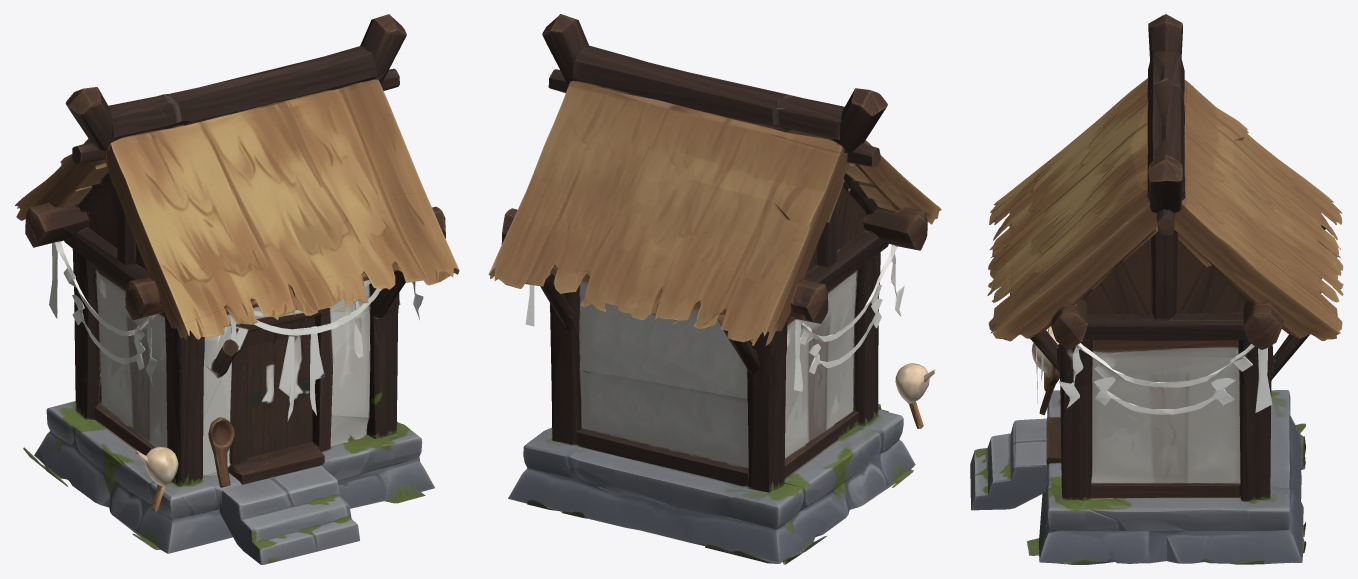
Rendered from ascetic_hall.glb.
The picture shows the model from 3 angles, left to right: view 1: azimuth 30°, elevation 25°; view 2: azimuth 150°, elevation 25°; view 3: azimuth 270°, elevation 25°; orthographic projection. The views are drawn at different scales.
Visible parts, largest first — view 1: ascetic_hall; view 2: ascetic_hall; view 3: ascetic_hall.
Boxes of the visible parts, <box> form: ascetic_hall: <box>15,14,459,564</box>; ascetic_hall: <box>488,14,941,564</box>; ascetic_hall: <box>970,14,1343,564</box>.
Bounding box in the file's own units: 5.75 × 7 × 5.74.
Materials: 1 (1 with a texture image).
